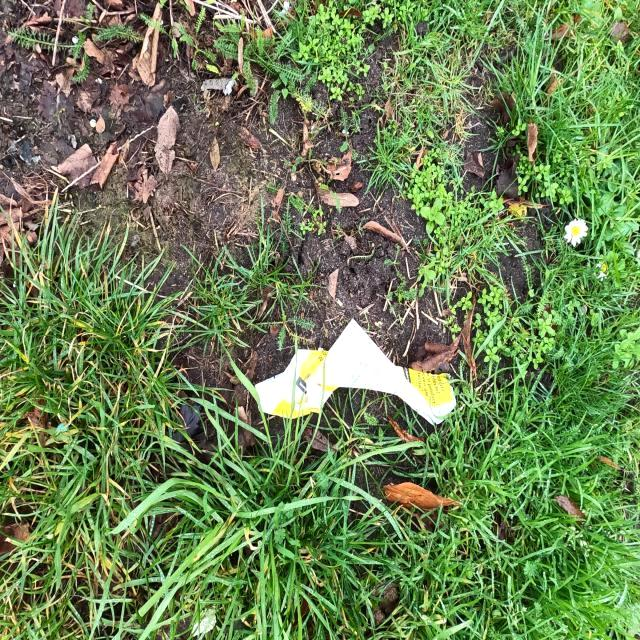Paper: (249, 321, 459, 443)
